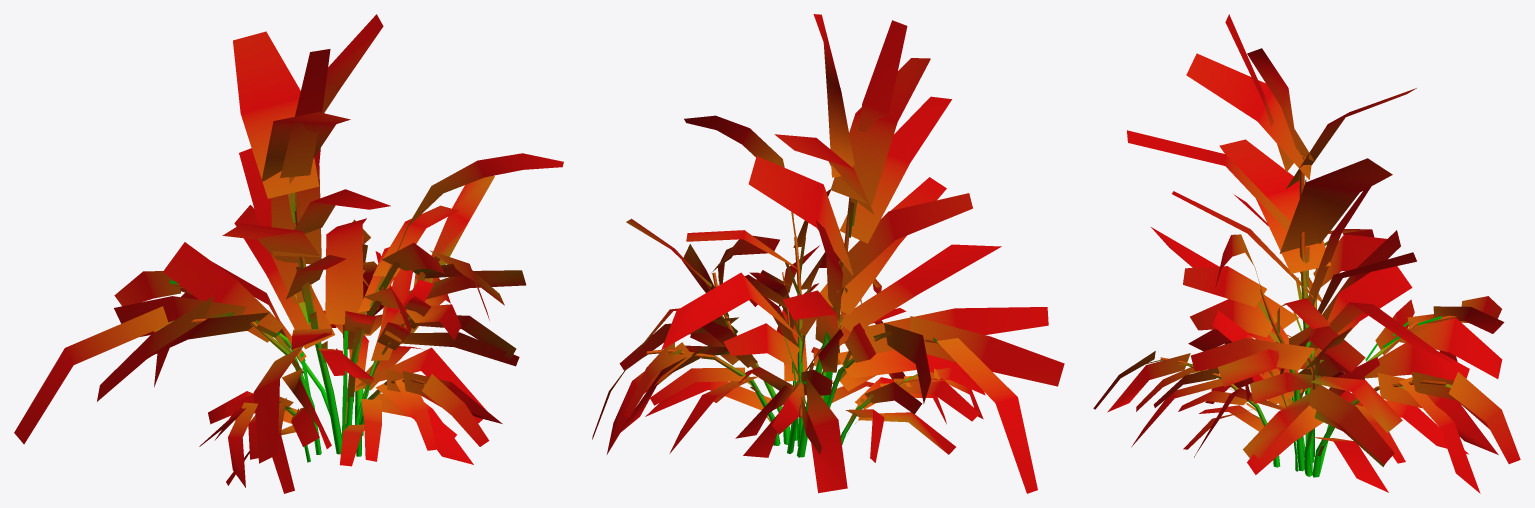
Rendered from Var1_LOD2.fbx.
3 views of the same model, side by side, from view 1: azimuth 30°, elevation 25°; view 2: azimuth 150°, elevation 25°; view 3: azimuth 270°, elevation 25° (orthographic). The views are drawn at different scales.
Visible parts, largest first — view 1: _bb42_Var1_LOD2; view 2: _bb42_Var1_LOD2; view 3: _bb42_Var1_LOD2.
Boxes of the visible parts, left/top/right/bottom form: _bb42_Var1_LOD2: left=14, top=14, right=563, bottom=493; _bb42_Var1_LOD2: left=592, top=14, right=1064, bottom=493; _bb42_Var1_LOD2: left=1093, top=14, right=1520, bottom=493.
Bounding box in the file's own units: 242 × 228 × 205.
